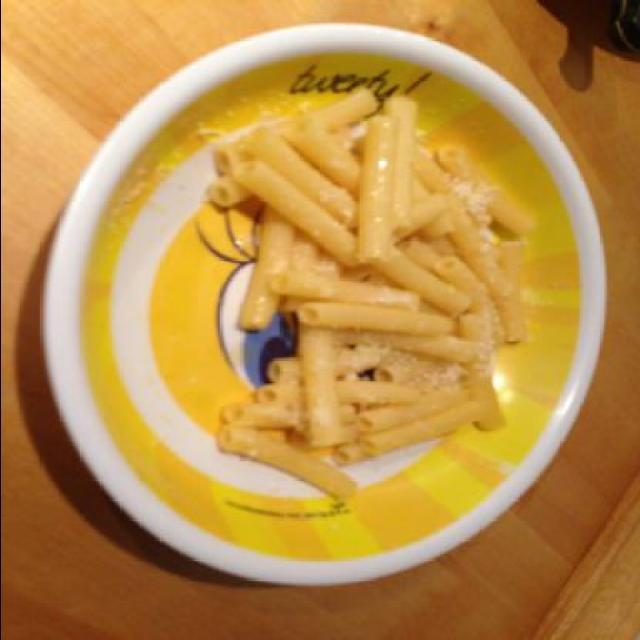Oil pasta: (150, 112, 572, 546)
